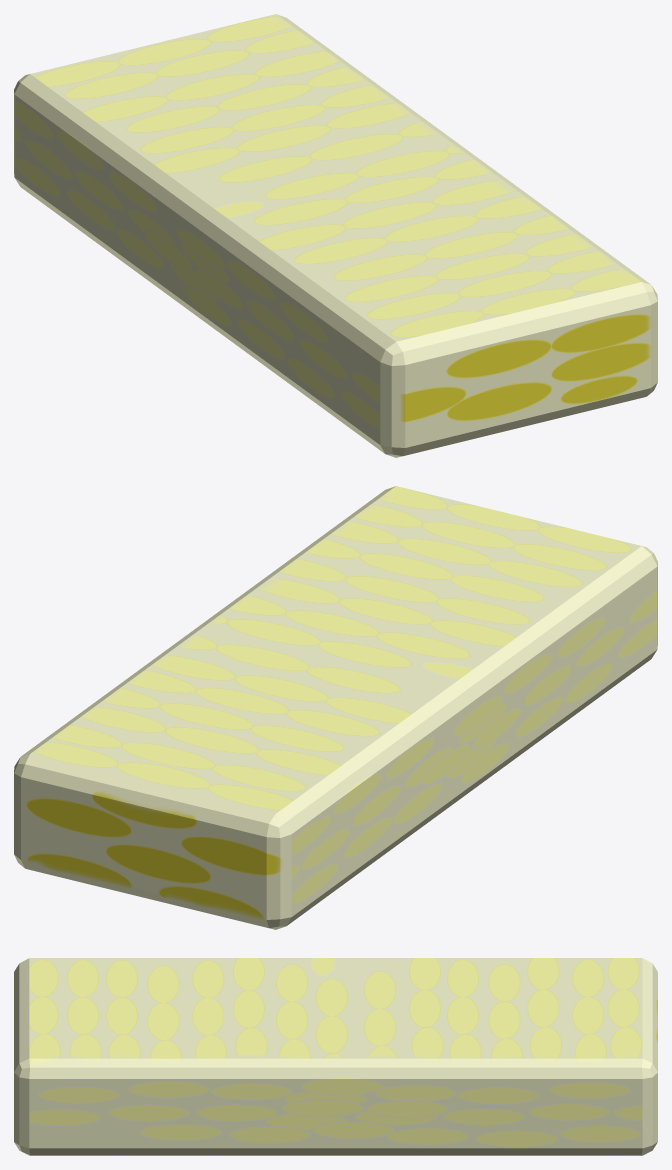
Rendered from Tempeh_Buff.fbx.
The picture shows the model from 3 angles, top to bottom: view 1: azimuth 30°, elevation 25°; view 2: azimuth 150°, elevation 25°; view 3: azimuth 270°, elevation 25°; orthographic projection. The views are drawn at different scales.
Parts seen in each view (by area): view 1: Roundcube.001; view 2: Roundcube.001; view 3: Roundcube.001.
Part boxes in pixels (bbox=[...]): Roundcube.001: bbox=[14, 14, 657, 457]; Roundcube.001: bbox=[14, 486, 657, 929]; Roundcube.001: bbox=[14, 958, 657, 1155].
Size of the model in its own units: 250 by 100 by 600.
